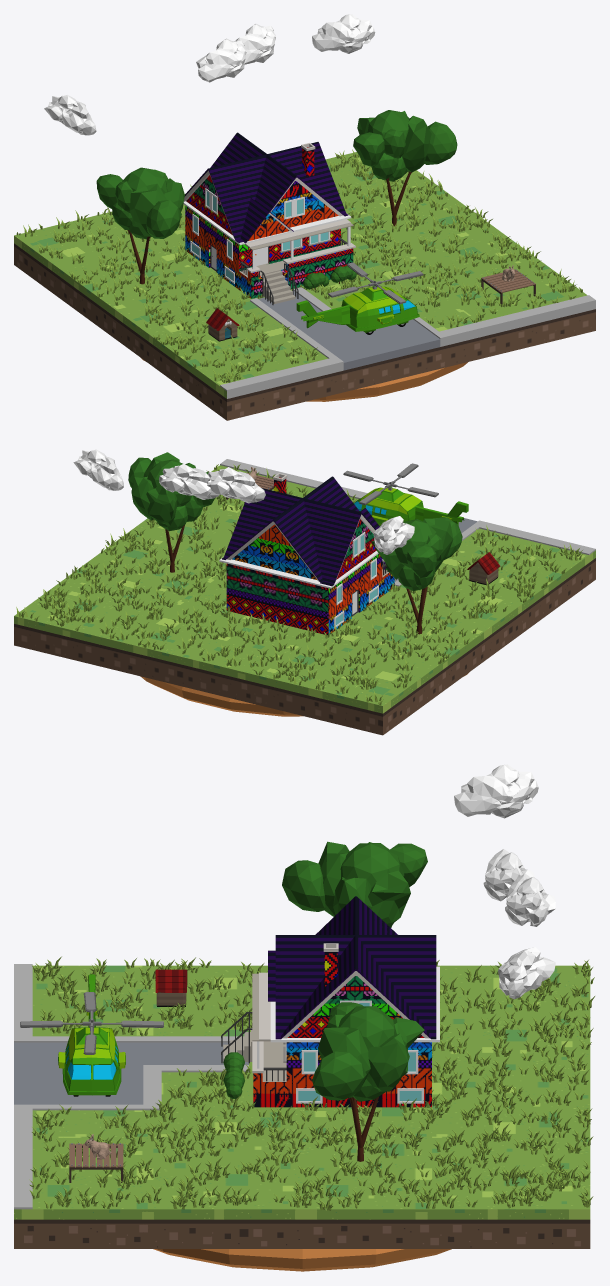
3 renders of one model, top to bottom at view 1: azimuth 30°, elevation 25°; view 2: azimuth 150°, elevation 25°; view 3: azimuth 270°, elevation 25°, orthographic. The views are drawn at different scales.
Visible parts, largest first — view 1: Cube.006, Cube.966, Circle.012_Grass_0.192, Cube.007, tree, tree.001, VEHICLES_HELICOPTER, UNDERGROUND_PIZZA, Cube.009, OBJRANDOM_DOGHOUSE; view 2: Cube.006, Cube.966, Circle.012_Grass_0.192, Cube.007, tree.001, tree, VEHICLES_HELICOPTER, UNDERGROUND_PIZZA, OBJRANDOM_DOGHOUSE; view 3: Cube.006, Circle.012_Grass_0.192, Cube.966, tree, Cube.007, tree.001, VEHICLES_HELICOPTER, UNDERGROUND_PIZZA, Cube.009, OBJRANDOM_DOGHOUSE.
Part boxes in pixels (x1=…): Cube.006: x1=14, y1=152, x2=595, y2=420; Cube.966: x1=183, y1=132, x2=355, y2=305; Circle.012_Grass_0.192: x1=16, y1=149, x2=582, y2=382; Cube.007: x1=44, y1=14, x2=375, y2=135; tree: x1=353, y1=110, x2=457, y2=226; tree.001: x1=96, y1=167, x2=184, y2=284; VEHICLES_HELICOPTER: x1=296, y1=262, x2=423, y2=334; UNDERGROUND_PIZZA: x1=141, y1=358, x2=467, y2=401; Cube.009: x1=481, y1=269, x2=535, y2=304; OBJRANDOM_DOGHOUSE: x1=206, y1=308, x2=239, y2=341; Cube.006: x1=14, y1=459, x2=595, y2=735; Cube.966: x1=219, y1=473, x2=394, y2=635; Circle.012_Grass_0.192: x1=16, y1=464, x2=582, y2=705; Cube.007: x1=73, y1=449, x2=414, y2=554; tree.001: x1=371, y1=517, x2=462, y2=634; tree: x1=128, y1=452, x2=214, y2=572; VEHICLES_HELICOPTER: x1=343, y1=463, x2=468, y2=526; UNDERGROUND_PIZZA: x1=140, y1=673, x2=468, y2=716; OBJRANDOM_DOGHOUSE: x1=467, y1=552, x2=500, y2=585; Cube.006: x1=14, y1=964, x2=590, y2=1248; Circle.012_Grass_0.192: x1=29, y1=956, x2=594, y2=1210; Cube.966: x1=221, y1=896, x2=439, y2=1107; tree: x1=312, y1=1002, x2=424, y2=1161; Cube.007: x1=454, y1=764, x2=555, y2=999; tree.001: x1=282, y1=841, x2=427, y2=927; VEHICLES_HELICOPTER: x1=20, y1=974, x2=163, y2=1096; UNDERGROUND_PIZZA: x1=153, y1=1249, x2=451, y2=1271; Cube.009: x1=69, y1=1143, x2=123, y2=1182; OBJRANDOM_DOGHOUSE: x1=155, y1=969, x2=187, y2=1006.
Size of the model in its own units: 4071 by 2387 by 4040.
Materials: 49 (7 with a texture image).
